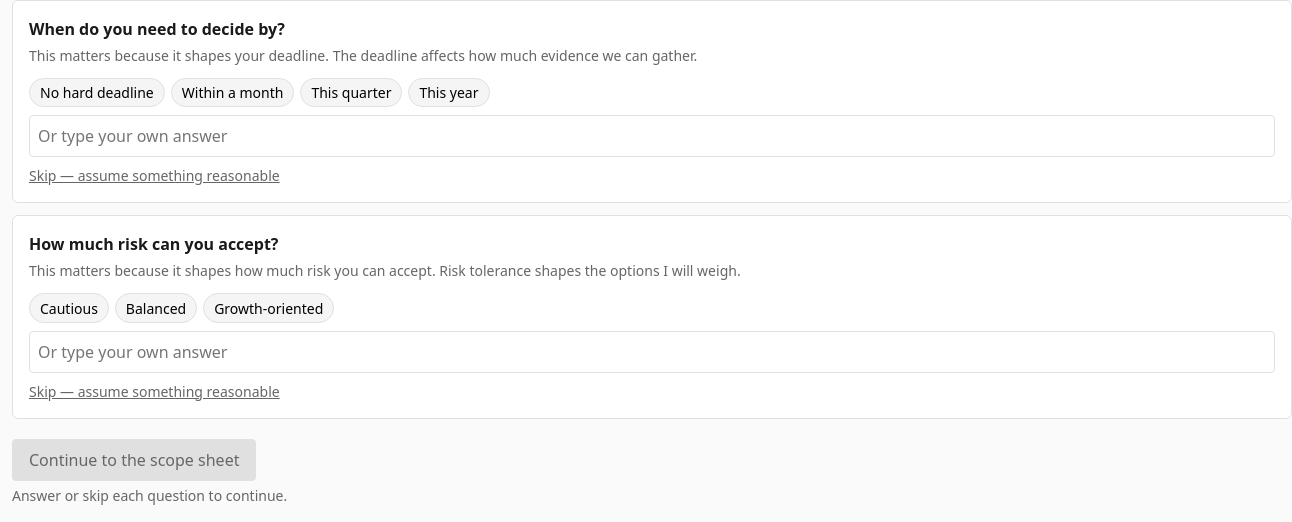
it: InterviewCards › disables continue until all questions are answered or skipped
Expected: the button "Continue to the scope sheet" is disabled, [12, 439, 256, 481]
// Skip both.
Click the button "Skip — assume something reasonable" below "When do you need to decide by?". click: coordinates (154, 176)
box: [29, 165, 280, 186]
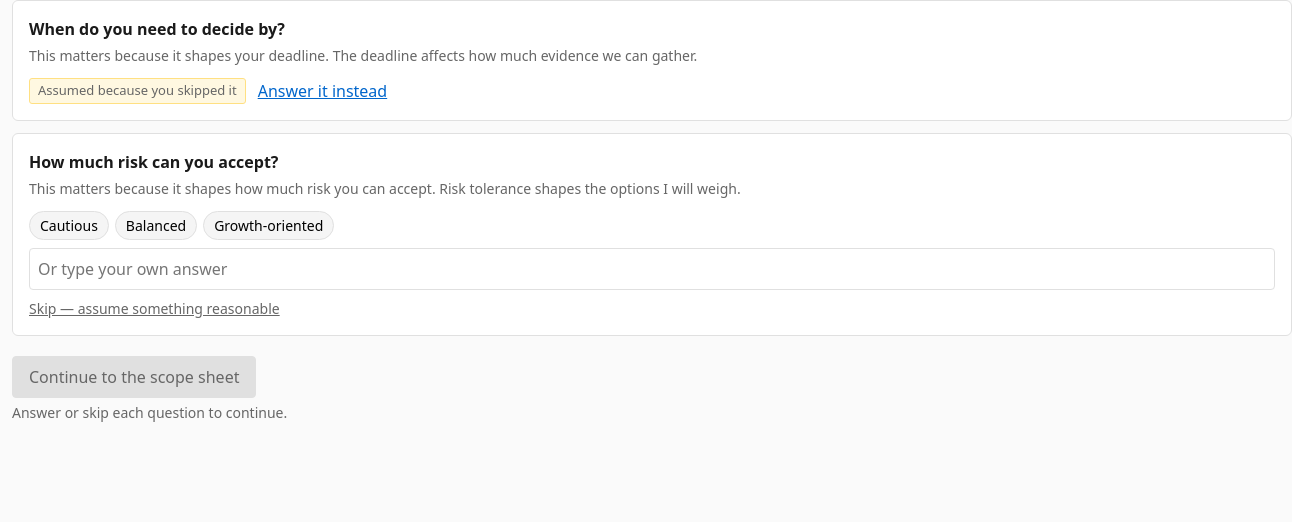
Click the button "Skip — assume something reasonable". click: coordinates (154, 308)
box: [29, 298, 280, 319]
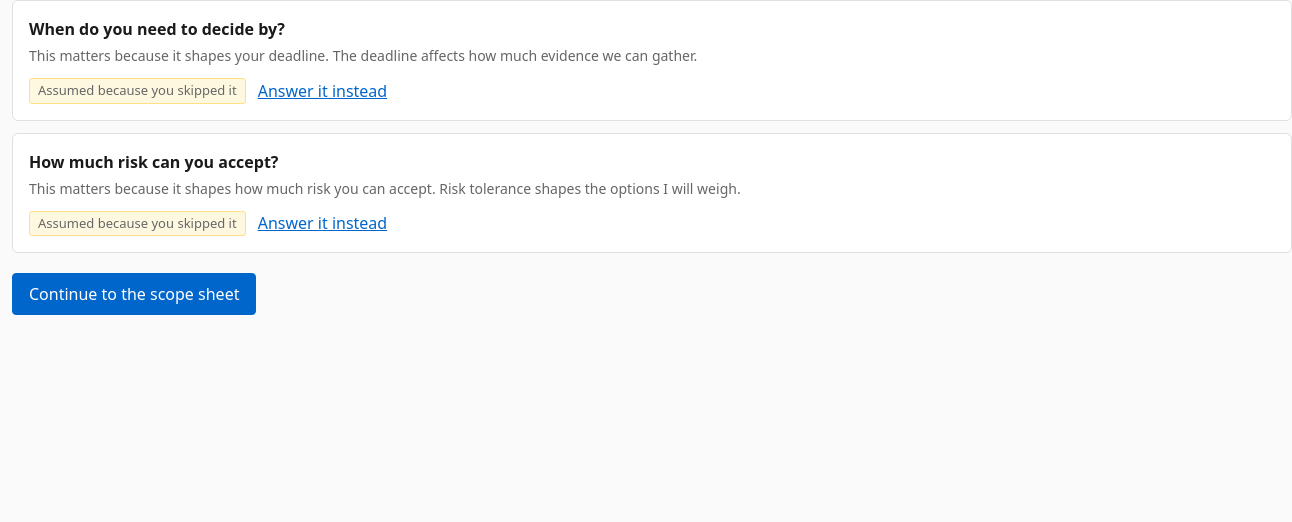
Expected: the button "Continue to the scope sheet" is enabled, [12, 273, 256, 315]
